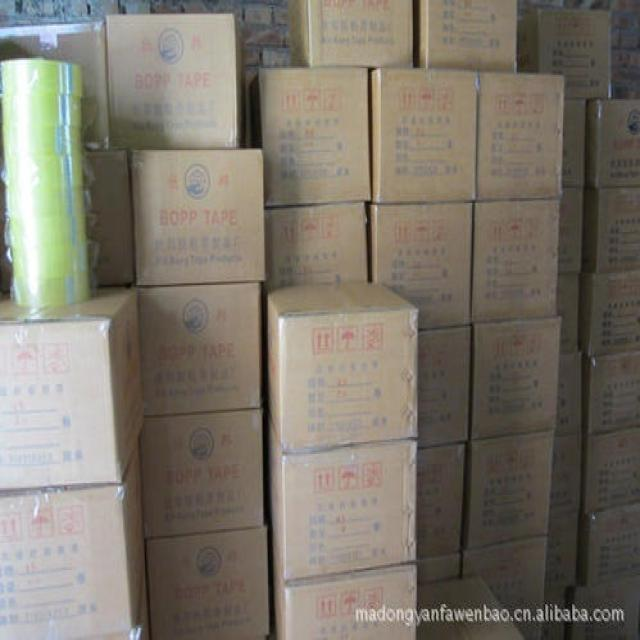box: (0, 288, 145, 490), (0, 444, 145, 640), (262, 282, 421, 456), (264, 416, 417, 580), (130, 147, 267, 287), (106, 14, 244, 148), (248, 67, 373, 207), (136, 282, 262, 418), (140, 408, 263, 538), (369, 67, 480, 203), (271, 536, 418, 638), (0, 22, 113, 152), (146, 524, 271, 638), (368, 201, 472, 329), (476, 72, 566, 201), (469, 316, 562, 440), (460, 430, 554, 550), (472, 198, 562, 323), (262, 203, 367, 292), (462, 536, 548, 638), (289, 0, 413, 68), (517, 9, 612, 97), (414, 0, 517, 72), (417, 572, 526, 638), (82, 148, 133, 288), (417, 324, 472, 449), (417, 442, 467, 558), (576, 500, 640, 585), (578, 268, 640, 355), (581, 425, 640, 514), (582, 186, 640, 273), (585, 99, 640, 188), (582, 352, 640, 433), (569, 575, 640, 638), (119, 548, 150, 640), (546, 512, 580, 589), (550, 433, 581, 517), (559, 186, 584, 273), (564, 97, 586, 188), (558, 353, 582, 433), (557, 275, 580, 352), (417, 551, 462, 584), (0, 179, 13, 292), (544, 589, 567, 640), (242, 73, 257, 147), (244, 24, 283, 44), (262, 46, 289, 65), (90, 0, 121, 14), (245, 9, 272, 24), (123, 0, 151, 12), (64, 0, 88, 14), (246, 46, 262, 65), (273, 7, 287, 24)
